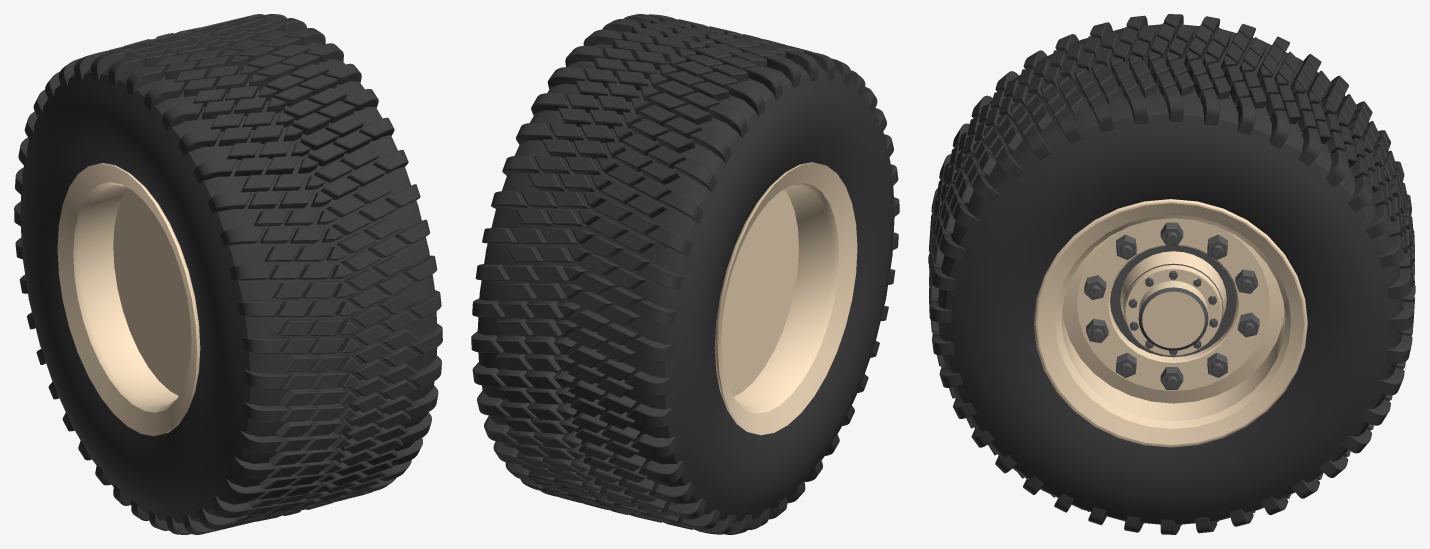
Rendered from Wheel.fbx.
3 renders of one model, left to right at view 1: azimuth 30°, elevation 25°; view 2: azimuth 150°, elevation 25°; view 3: azimuth 270°, elevation 25°, orthographic.
Parts seen in each view (by area): view 1: Cylinder.004; view 2: Cylinder.004; view 3: Cylinder.004.
Boxes of the visible parts, left/top/right/bottom form: Cylinder.004: left=14, top=14, right=442, bottom=534; Cylinder.004: left=471, top=14, right=899, bottom=534; Cylinder.004: left=928, top=14, right=1415, bottom=534.
Size of the model in its own units: 102 by 209 by 209.
